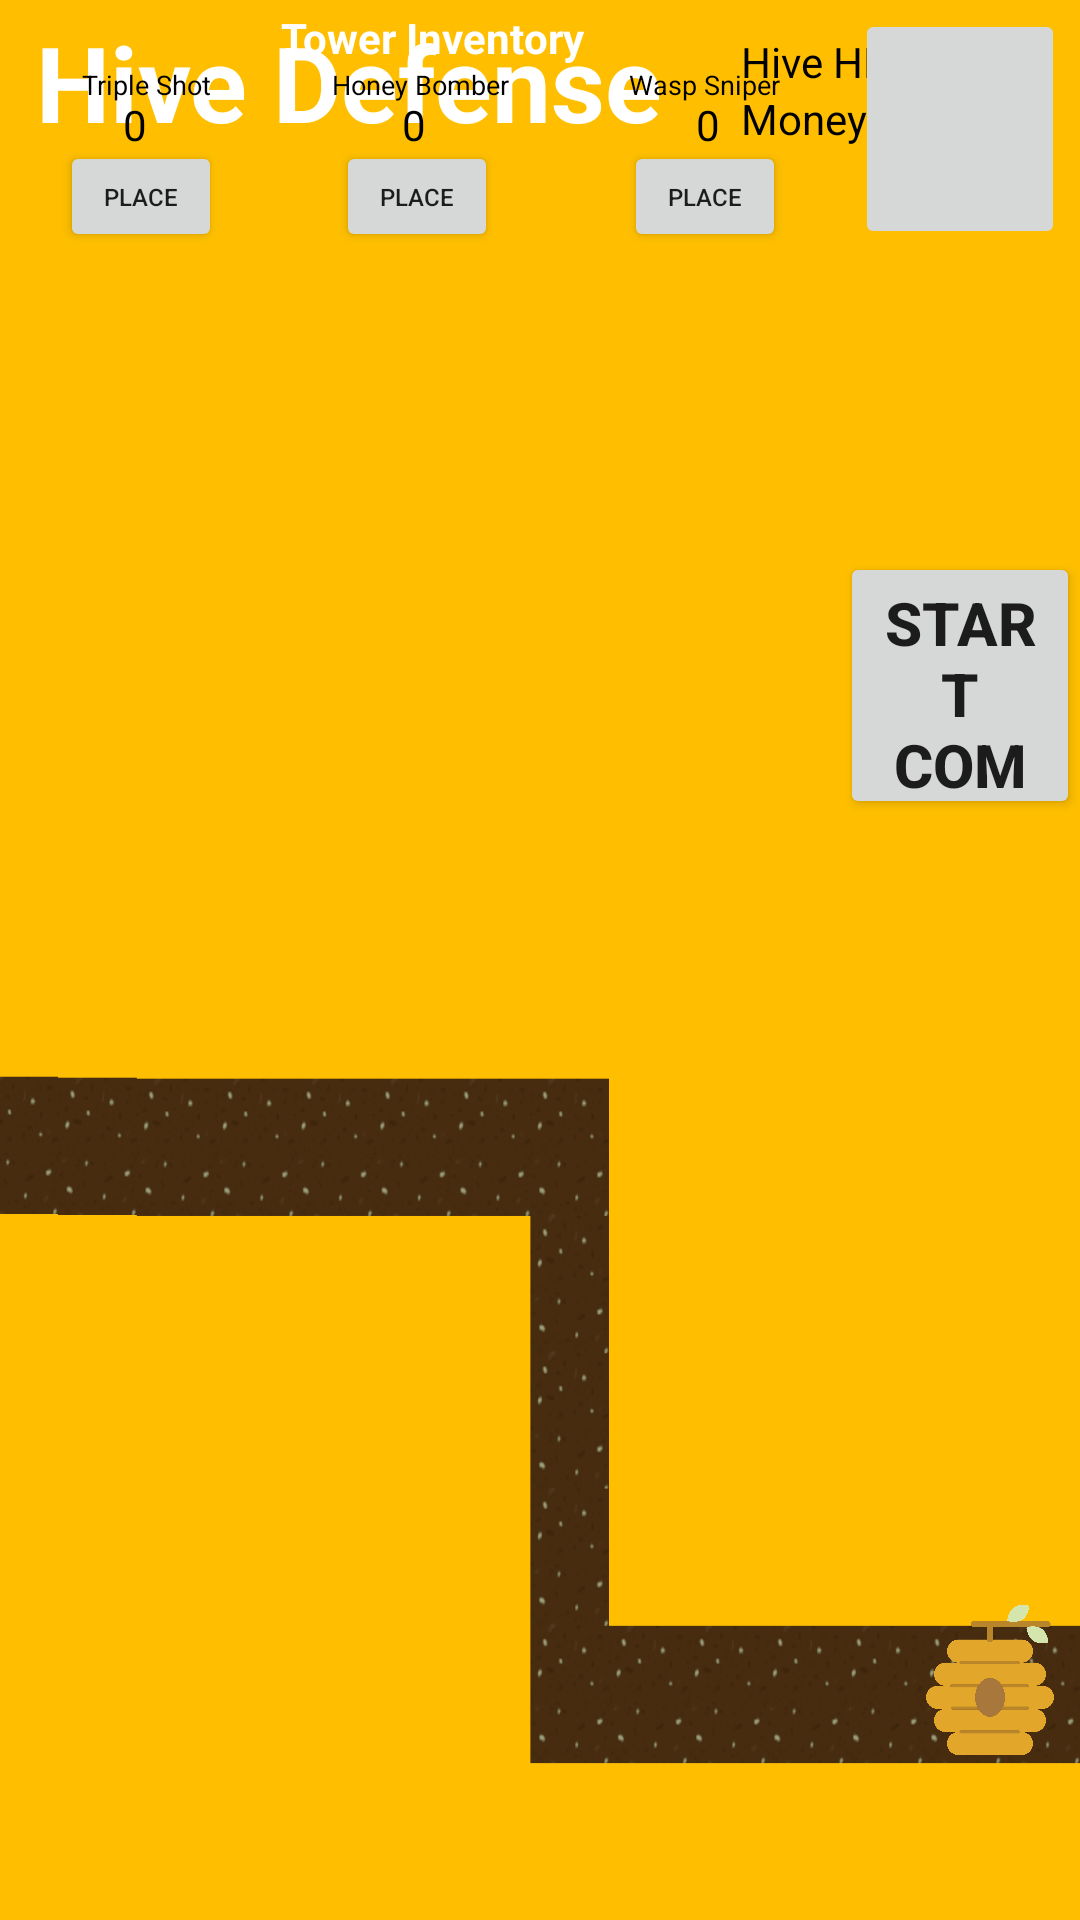

Screen size 1080px×1920px. Icon name, then its box in pixels as (x1, y1, x2, y2):
beehive: (915, 1605, 1065, 1755)
